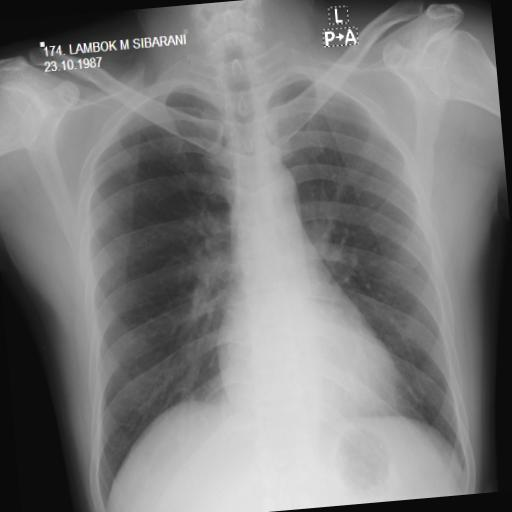normal: (50, 44, 479, 512)
